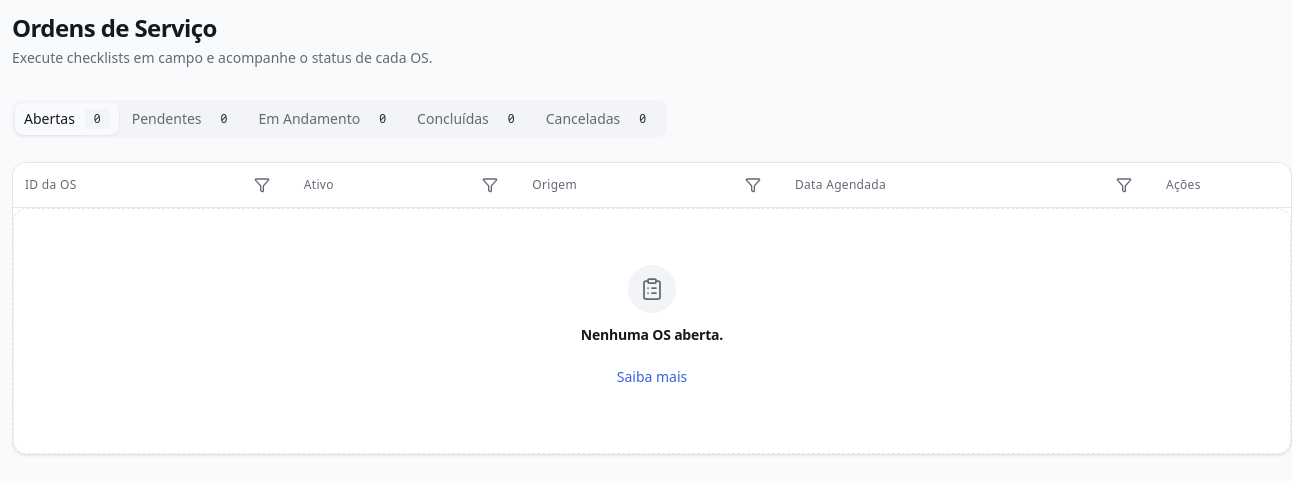
Scenario: WorkOrdersPage empty states › offers open work orders when only the status tab has changed
Expected: the heading "Nenhuma OS aberta." is shown, [581, 324, 723, 344]
Step 1. Click the tab "Concluídas 0" → [470, 119], box [408, 103, 533, 135]
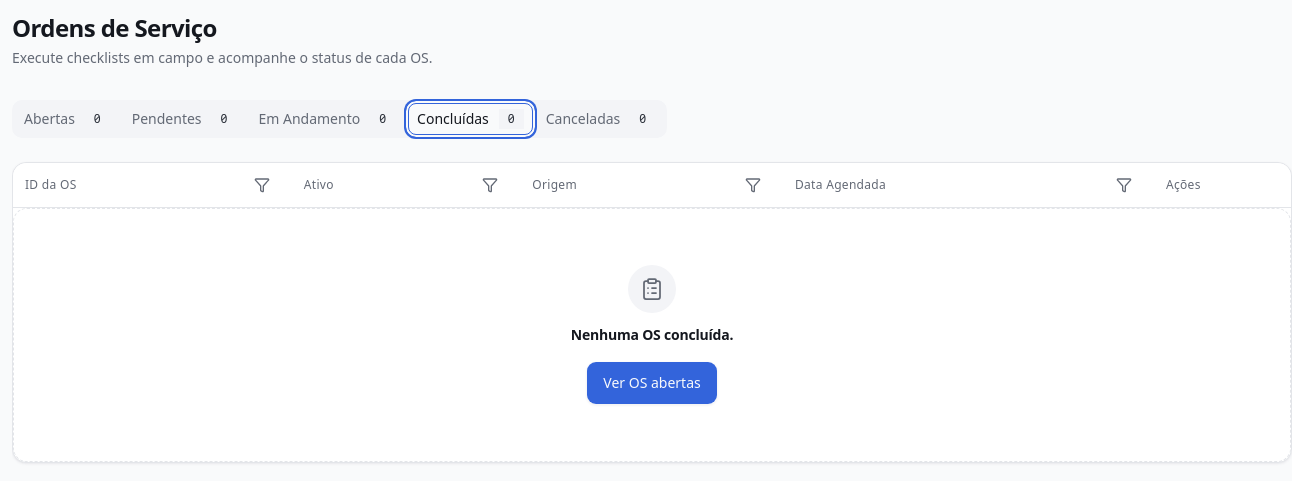
Step 2. Click the button "Ver OS abertas" → [652, 382], box [586, 360, 718, 404]
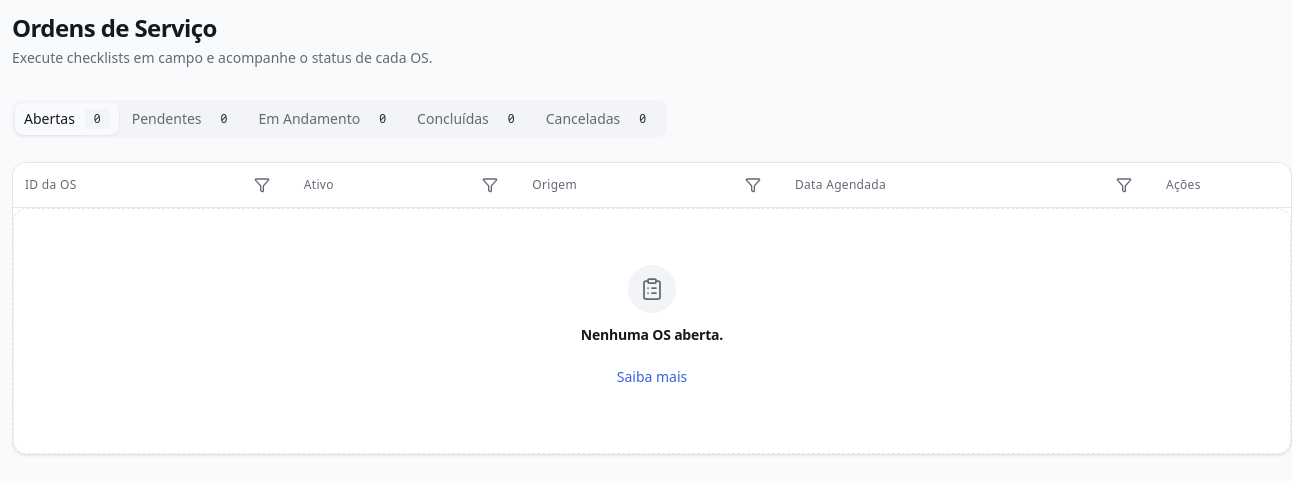
Now the heading "Nenhuma OS aberta." is shown, box [581, 324, 723, 344]
